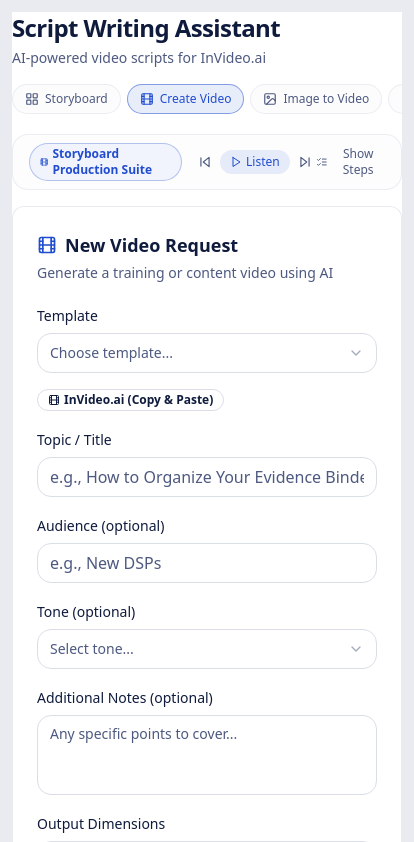
Test: StudioPromptHero › toggles Show Steps / Hide Steps
Click the button "Show Steps" at coordinates (350, 162), box left=316, top=146, right=385, bottom=178
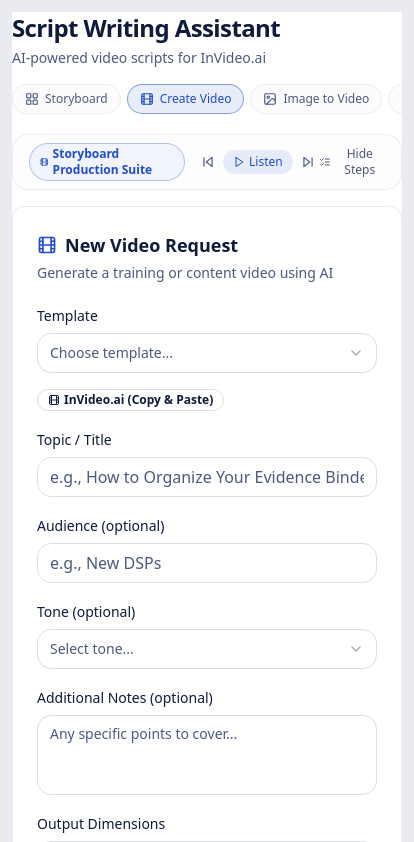
Now the button "Hide Steps" is shown
Click the button "Hide Steps" at coordinates (352, 162), box left=319, top=146, right=385, bottom=178
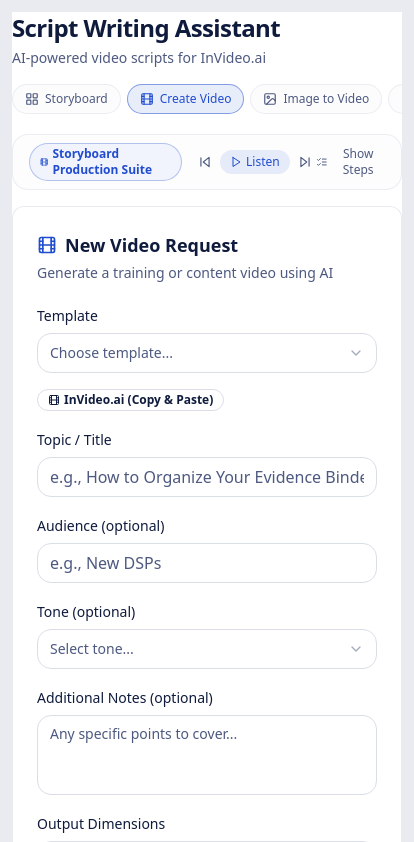
Now the button "Show Steps" is shown, box left=316, top=146, right=385, bottom=178
